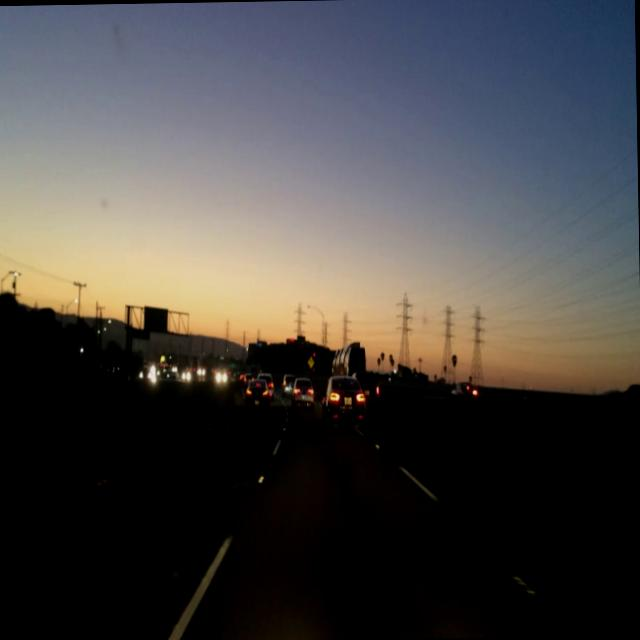Vehicle: (322, 369, 366, 431), (290, 380, 316, 409), (242, 376, 268, 402)
